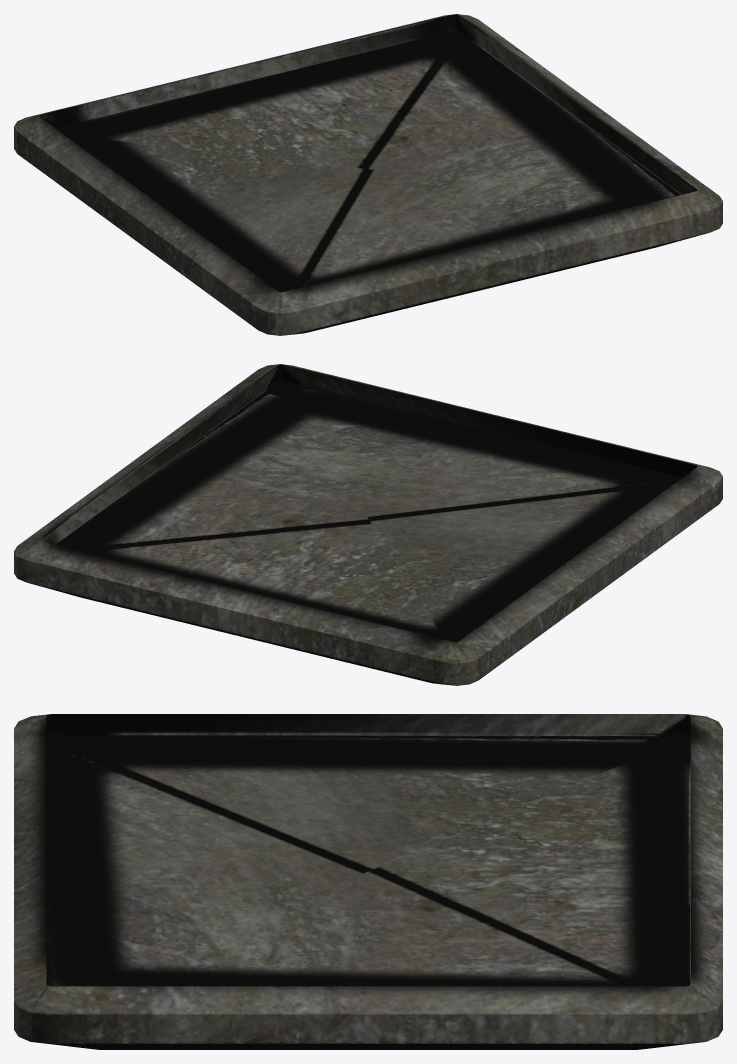
File: bridge deco base.fbx
3 renders of one model, top to bottom at view 1: azimuth 30°, elevation 25°; view 2: azimuth 150°, elevation 25°; view 3: azimuth 270°, elevation 25°, orthographic. The views are drawn at different scales.
Visible parts, largest first — view 1: Cube.034; view 2: Cube.034; view 3: Cube.034.
Boxes of the visible parts, x1=… form: Cube.034: x1=14, y1=14, x2=722, y2=335; Cube.034: x1=14, y1=364, x2=722, y2=685; Cube.034: x1=14, y1=714, x2=722, y2=1049.
Size of the model in its own units: 107 by 12.32 by 107.
